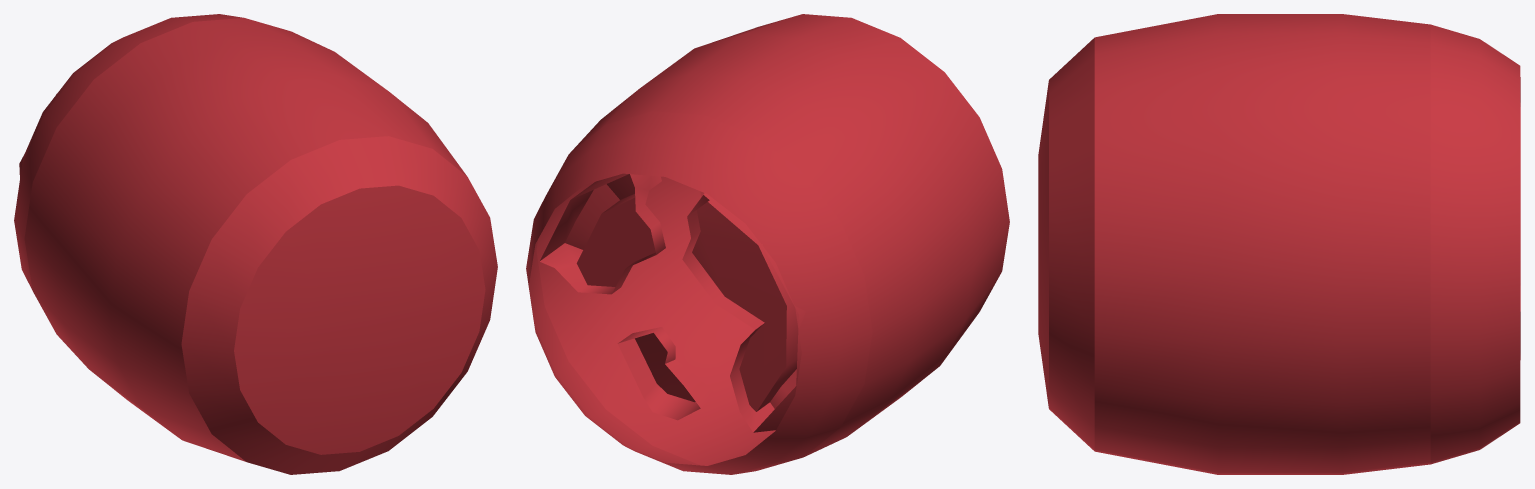
Rendered from airhockey_barrel_geo.glb.
3 renders of one model, left to right at view 1: azimuth 30°, elevation 25°; view 2: azimuth 150°, elevation 25°; view 3: azimuth 270°, elevation 25°, orthographic. The views are drawn at different scales.
Visible parts, largest first — view 1: barrel_1; view 2: barrel_1, barrel_1_destroyed; view 3: barrel_1.
Part boxes in pixels (<box>): barrel_1: <box>14,14,497,474</box>; barrel_1: <box>526,14,1009,474</box>; barrel_1_destroyed: <box>539,173,805,432</box>; barrel_1: <box>1038,14,1520,474</box>.
Size of the model in its own units: 1.15 by 1.15 by 1.19.
